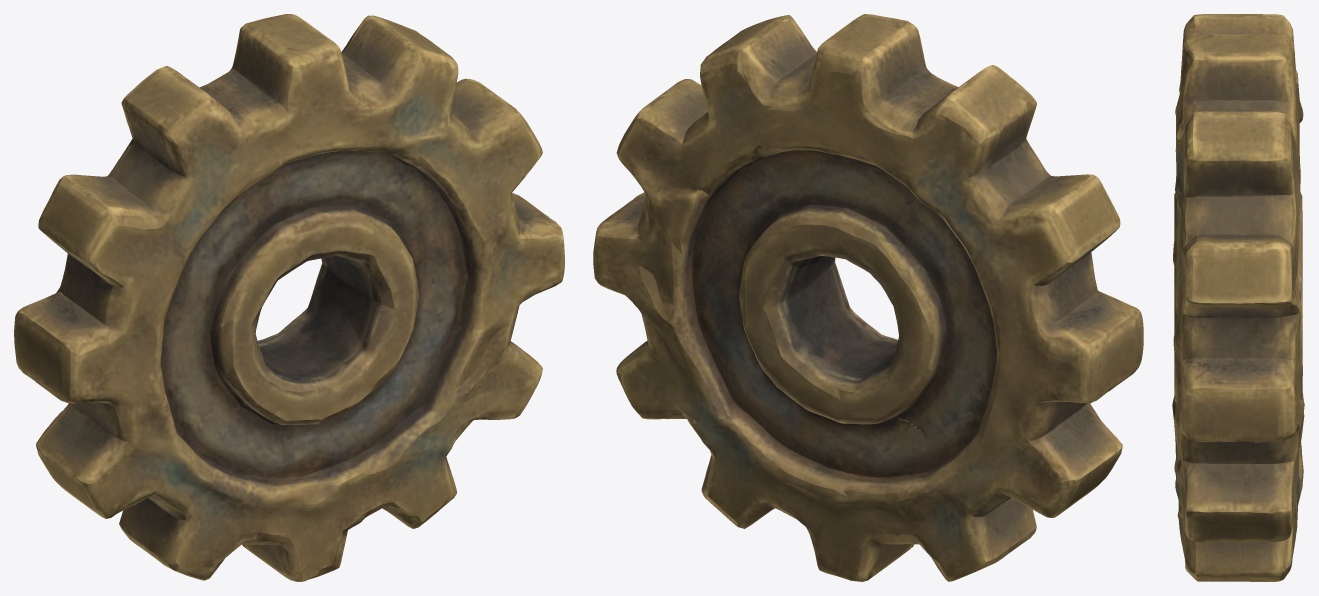
File: env_gear.glb
3 views of the same model, side by side, from view 1: azimuth 30°, elevation 25°; view 2: azimuth 150°, elevation 25°; view 3: azimuth 270°, elevation 25° (orthographic). The views are drawn at different scales.
Visible parts, largest first — view 1: world; view 2: world; view 3: world.
Part boxes in pixels (x1,y1,x2,y2): world: [14, 14, 564, 581]; world: [593, 14, 1143, 581]; world: [1172, 14, 1304, 581].
Size of the model in its own units: 0.12 by 0.12 by 0.0283.
1 material, 1 textured.
